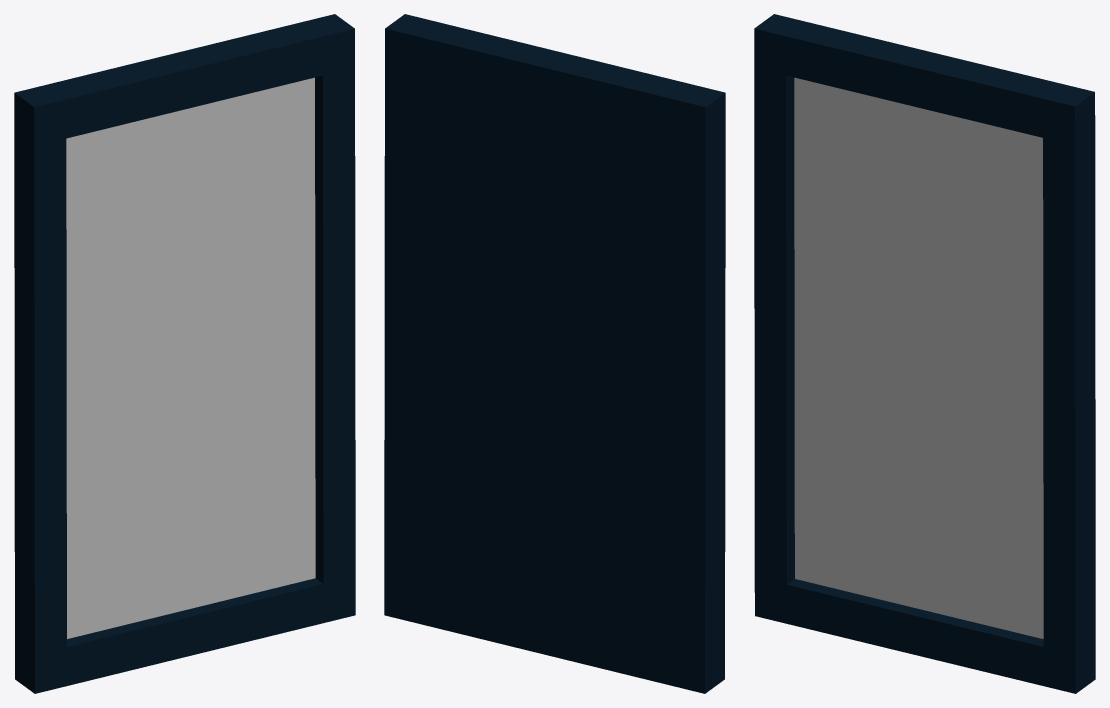
The model's file is Potrait_Sea.fbx.
3 renders of one model, left to right at view 1: azimuth 30°, elevation 25°; view 2: azimuth 150°, elevation 25°; view 3: azimuth 330°, elevation 25°, orthographic.
Visible parts, largest first — view 1: Box006; view 2: Box006; view 3: Box006.
Part boxes in pixels (x1,y1,x2,y2): Box006: (14,14,355,693); Box006: (384,14,725,693); Box006: (754,14,1095,693).
Size of the model in its own units: 15.14 by 26.44 by 1.63.
